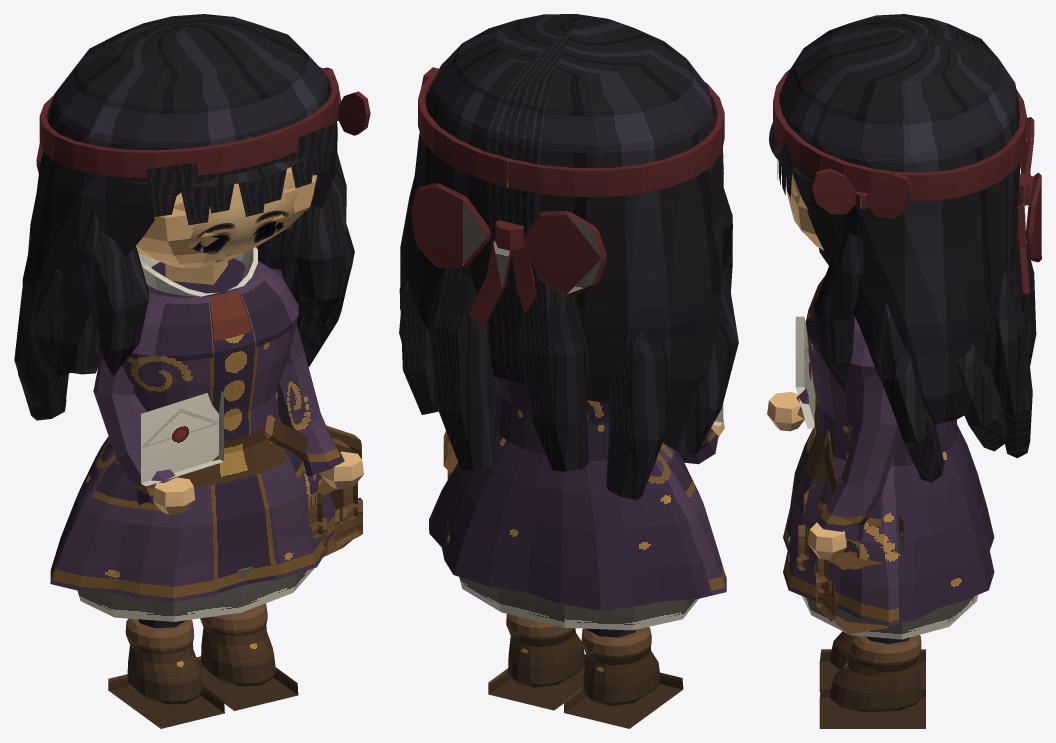
The model's file is postmaster-v11.glb.
3 views of the same model, side by side, from view 1: azimuth 30°, elevation 25°; view 2: azimuth 150°, elevation 25°; view 3: azimuth 270°, elevation 25° (orthographic). The views are drawn at different scales.
Visible parts, largest first — view 1: postmaster; view 2: postmaster; view 3: postmaster.
Part boxes in pixels (box(x1,y1,x2,y2)): postmaster: box(14, 14, 370, 728); postmaster: box(399, 14, 738, 728); postmaster: box(767, 14, 1041, 728).
Bounding box in the file's own units: 1.33 × 2.56 × 0.9614.
Materials: 2 (2 with a texture image).
